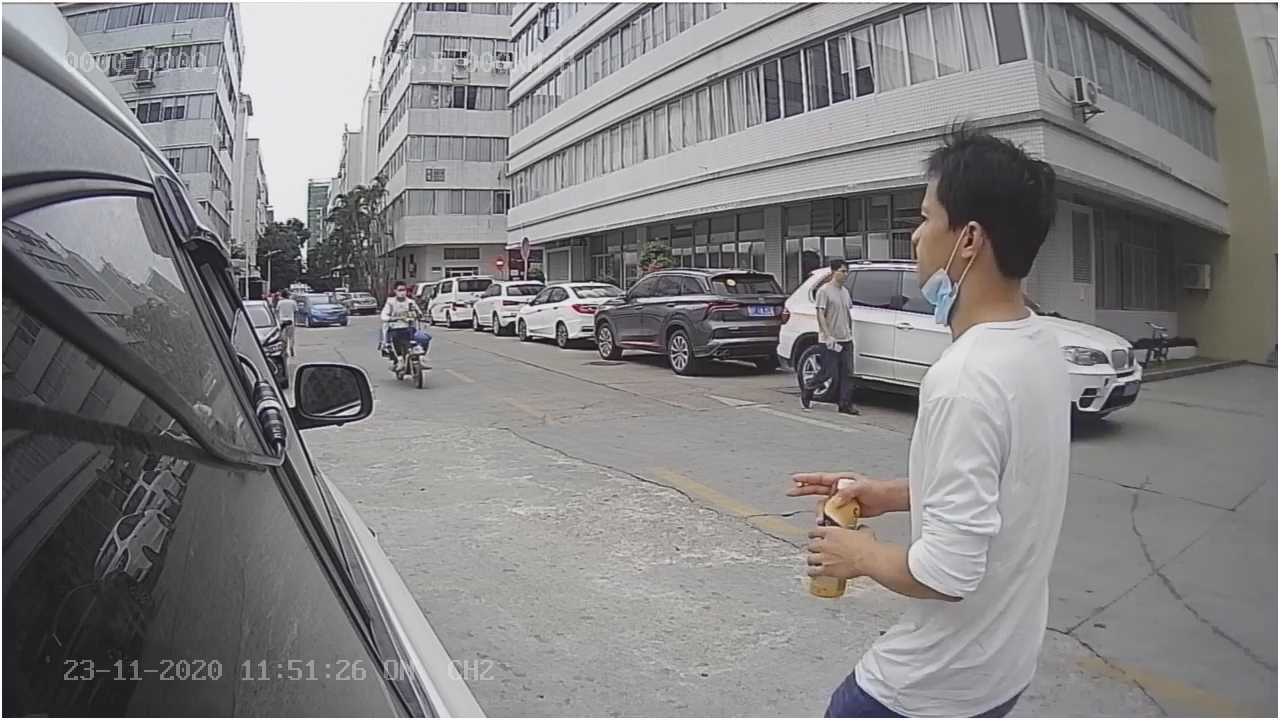person: (797, 257, 867, 422)
